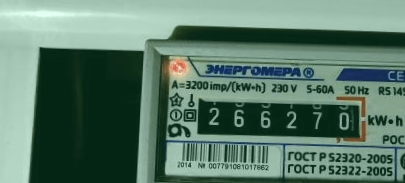0: (337, 110, 351, 130)
2: (206, 106, 222, 126), (284, 109, 299, 129)
6: (232, 107, 246, 128), (259, 109, 273, 129)
7: (310, 110, 323, 129)
screen: (187, 87, 373, 147)
